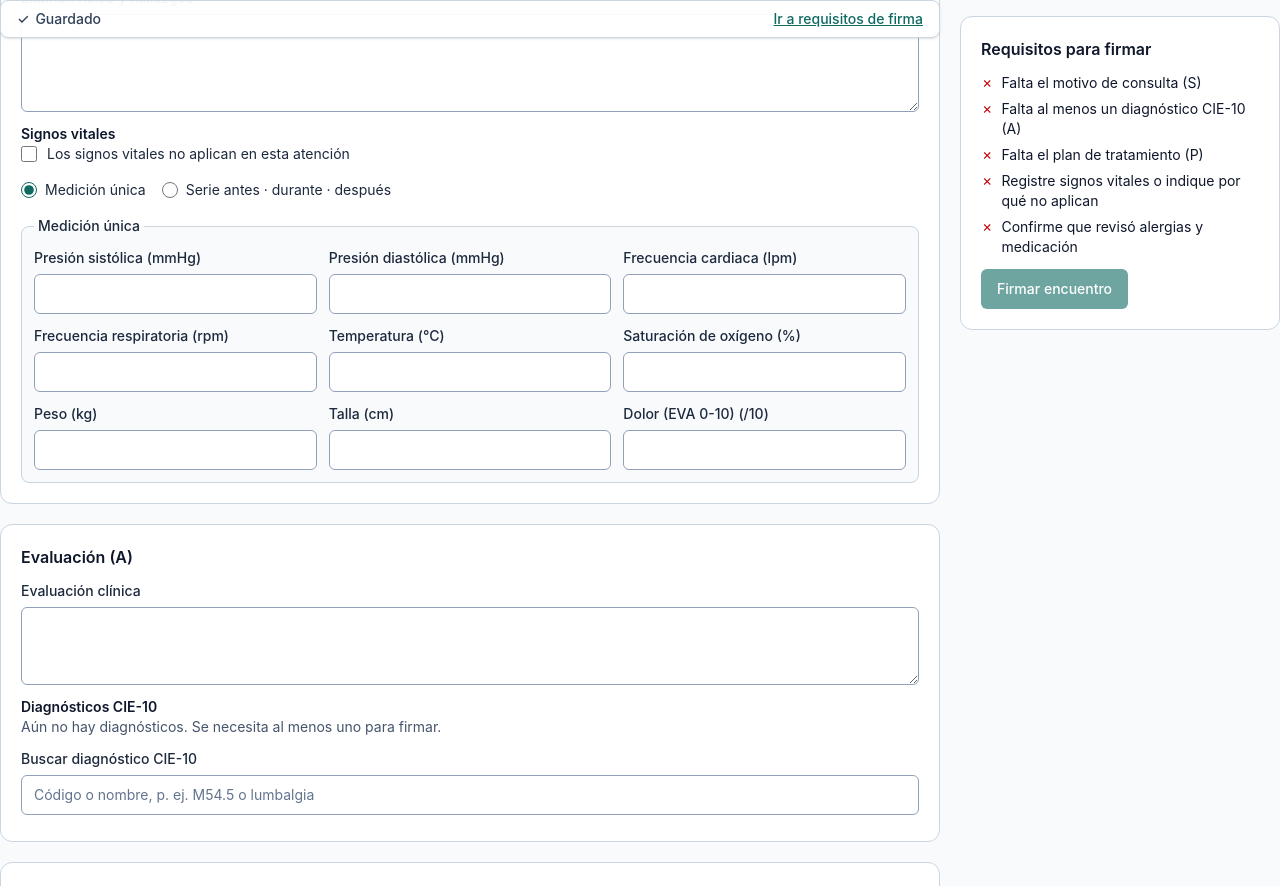
Test: EncounterWorkspace: borrador del doctor › NO envía el IMC: manda peso y talla y muestra el IMC que calcula el servidor
(page scrolled)
Type "70,5" into the field labelled "Peso (kg)".
click(175, 450); type("70,5")  # box [34, 430, 317, 470]
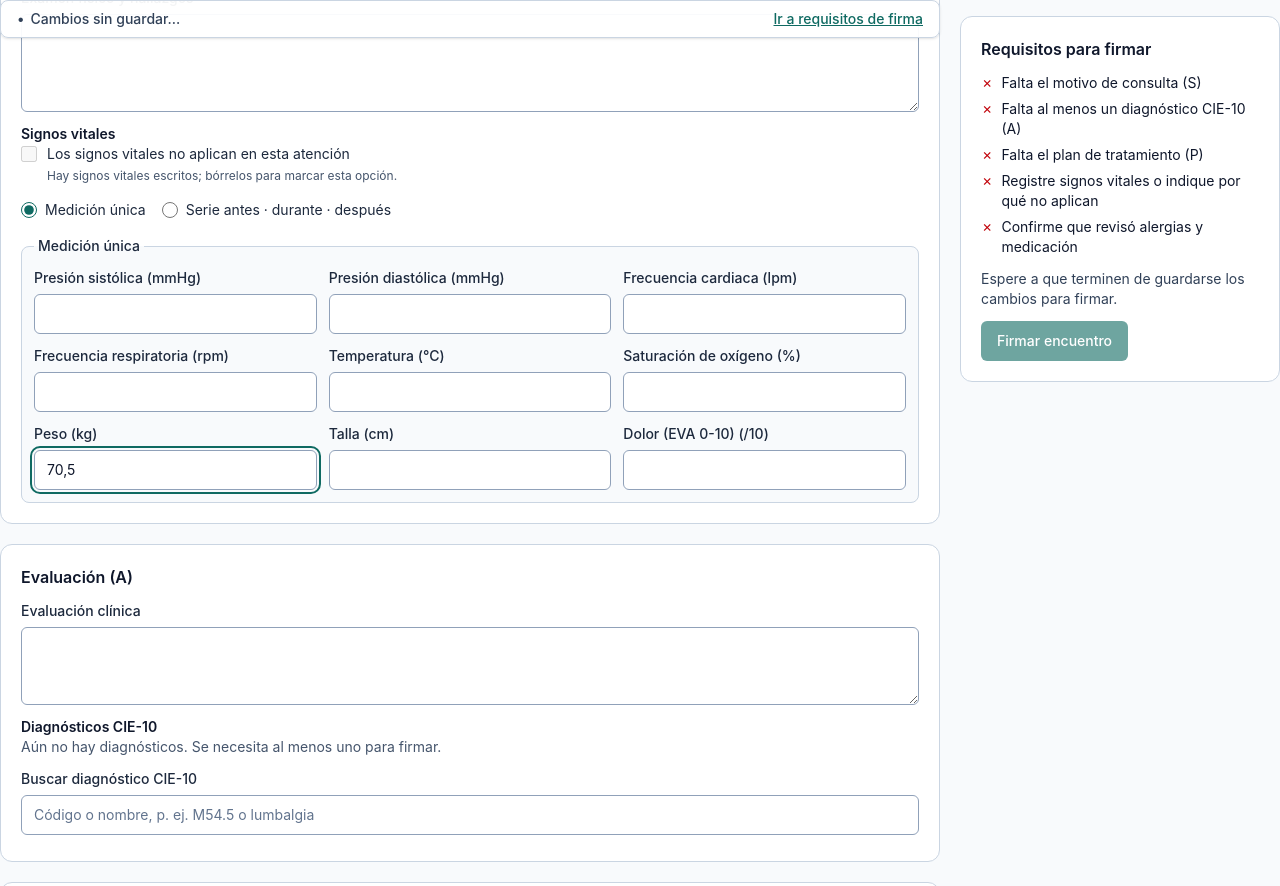
Type "170" into the field labelled "Talla (cm)".
click(470, 470); type("170")  # box [329, 450, 611, 490]
Wait 1400 ms
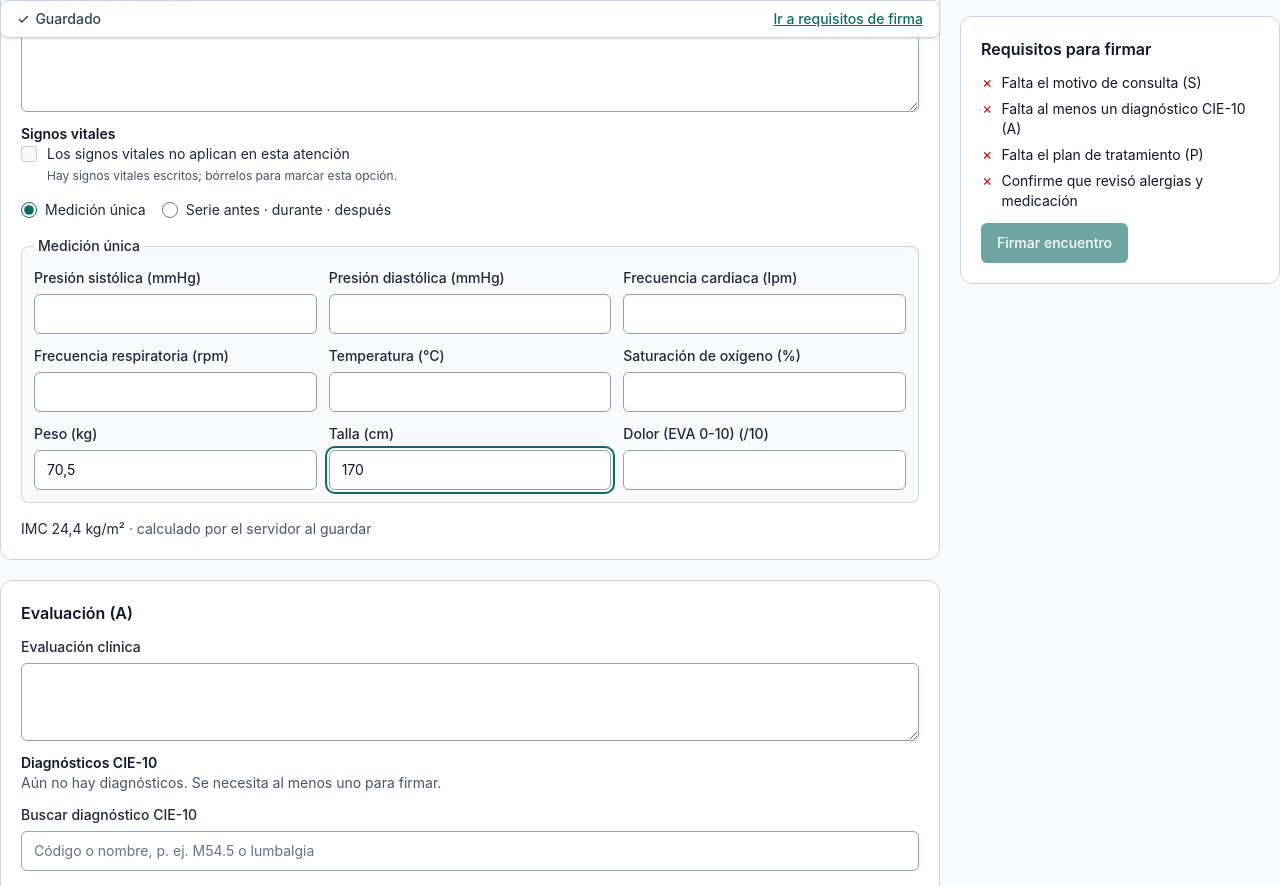
Expected: the text "IMC 24,4 kg/m² · calculado por el servidor al guardar" is shown, [21, 520, 372, 537]
Expected: the text "· calculado por el servidor al guardar" is shown, [125, 520, 371, 537]
